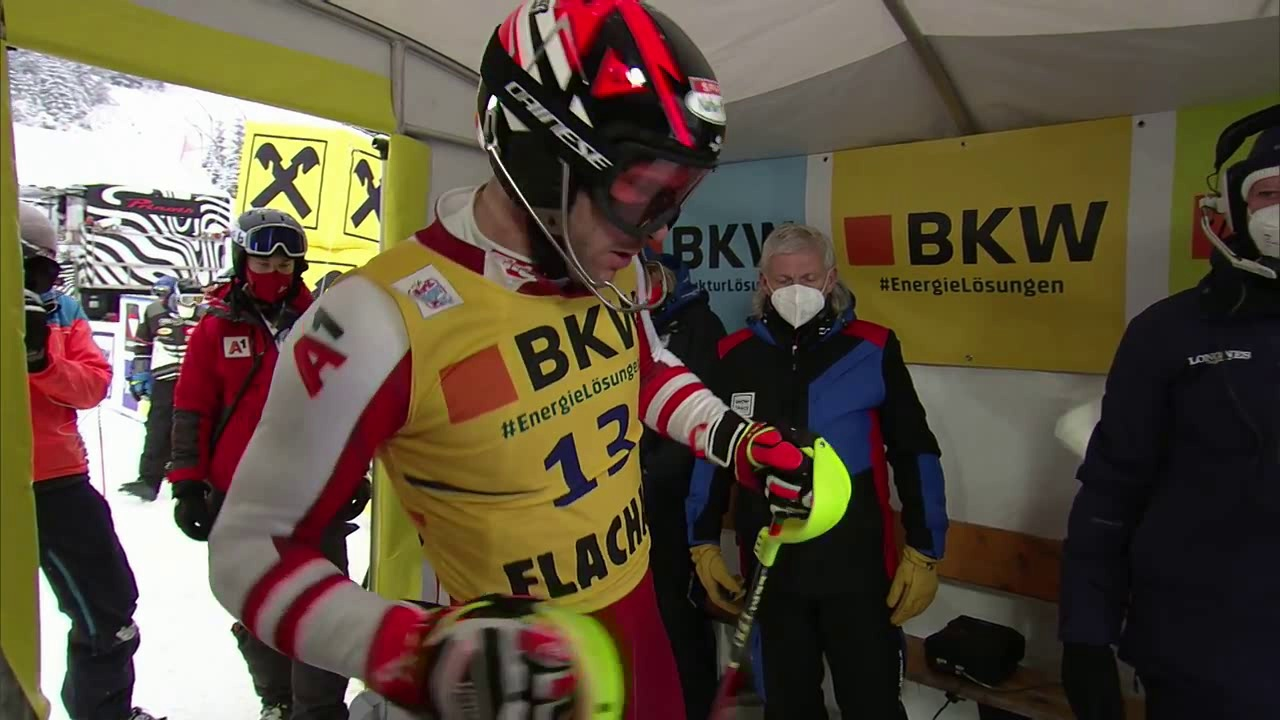a1: (290, 318, 354, 398), (227, 337, 251, 356)
raiffeisen: (245, 134, 335, 233), (343, 155, 386, 245)
